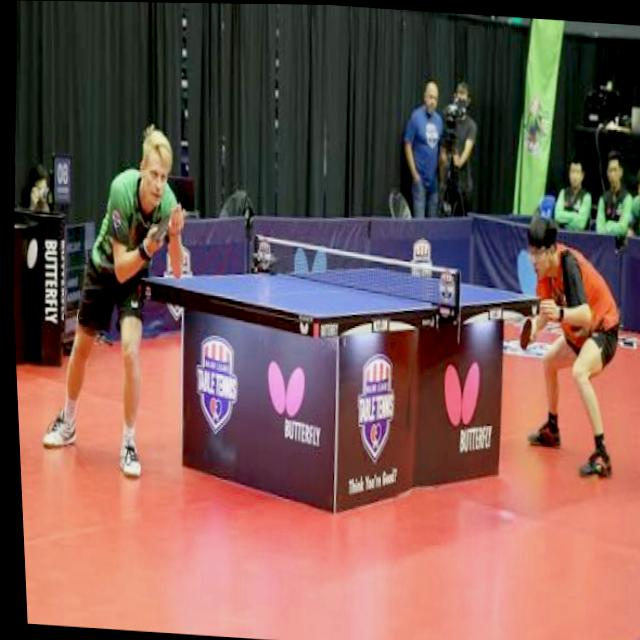TT Net: (249, 231, 461, 314)
TT Racket: (149, 213, 174, 252), (514, 313, 536, 354)
TT Table: (142, 267, 535, 317)
